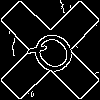Q: (25, 25, 87, 87)
